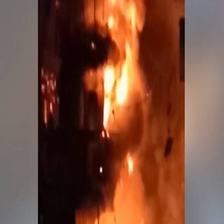fire: (80, 3, 154, 136), (80, 157, 165, 224), (41, 66, 62, 131)
